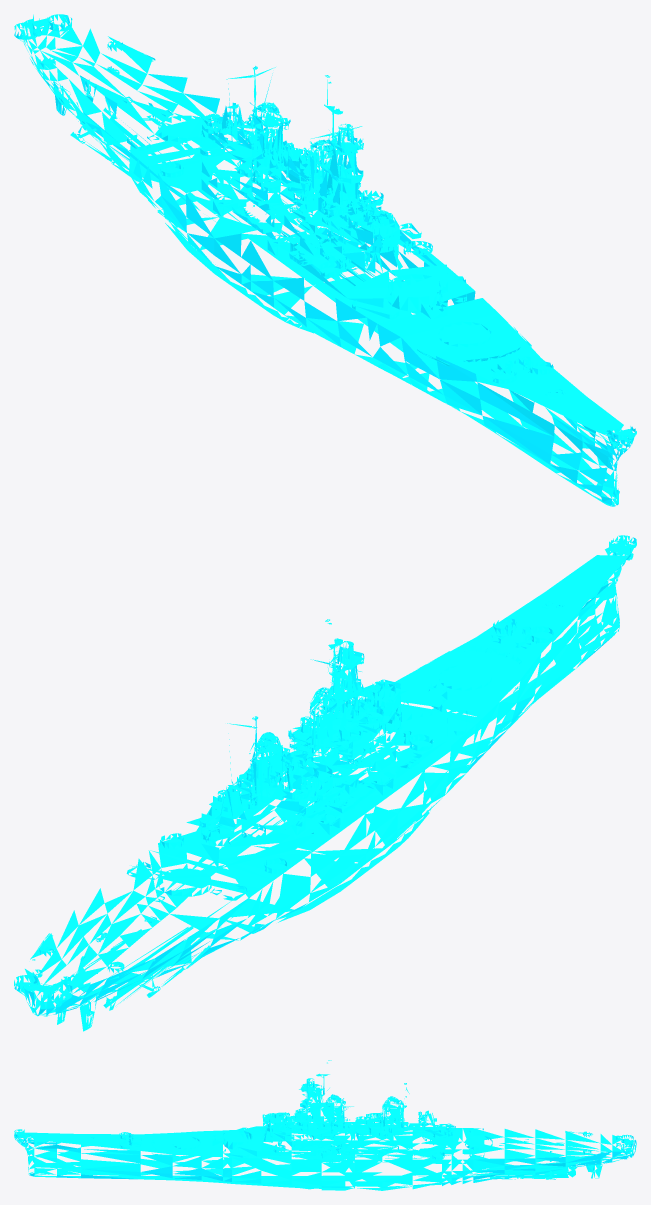
Rendered from Iowa.glb.
3 views of the same model, one above another, from view 1: azimuth 30°, elevation 25°; view 2: azimuth 150°, elevation 25°; view 3: azimuth 270°, elevation 25° (orthographic). The views are drawn at different scales.
Bounding box in the file's own units: 2.2 × 3.7 × 18.02.
